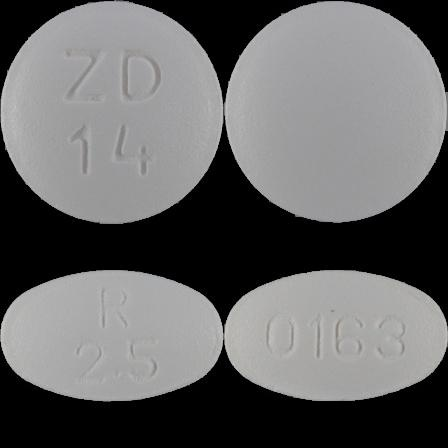61786-293: (0, 0, 224, 224)
